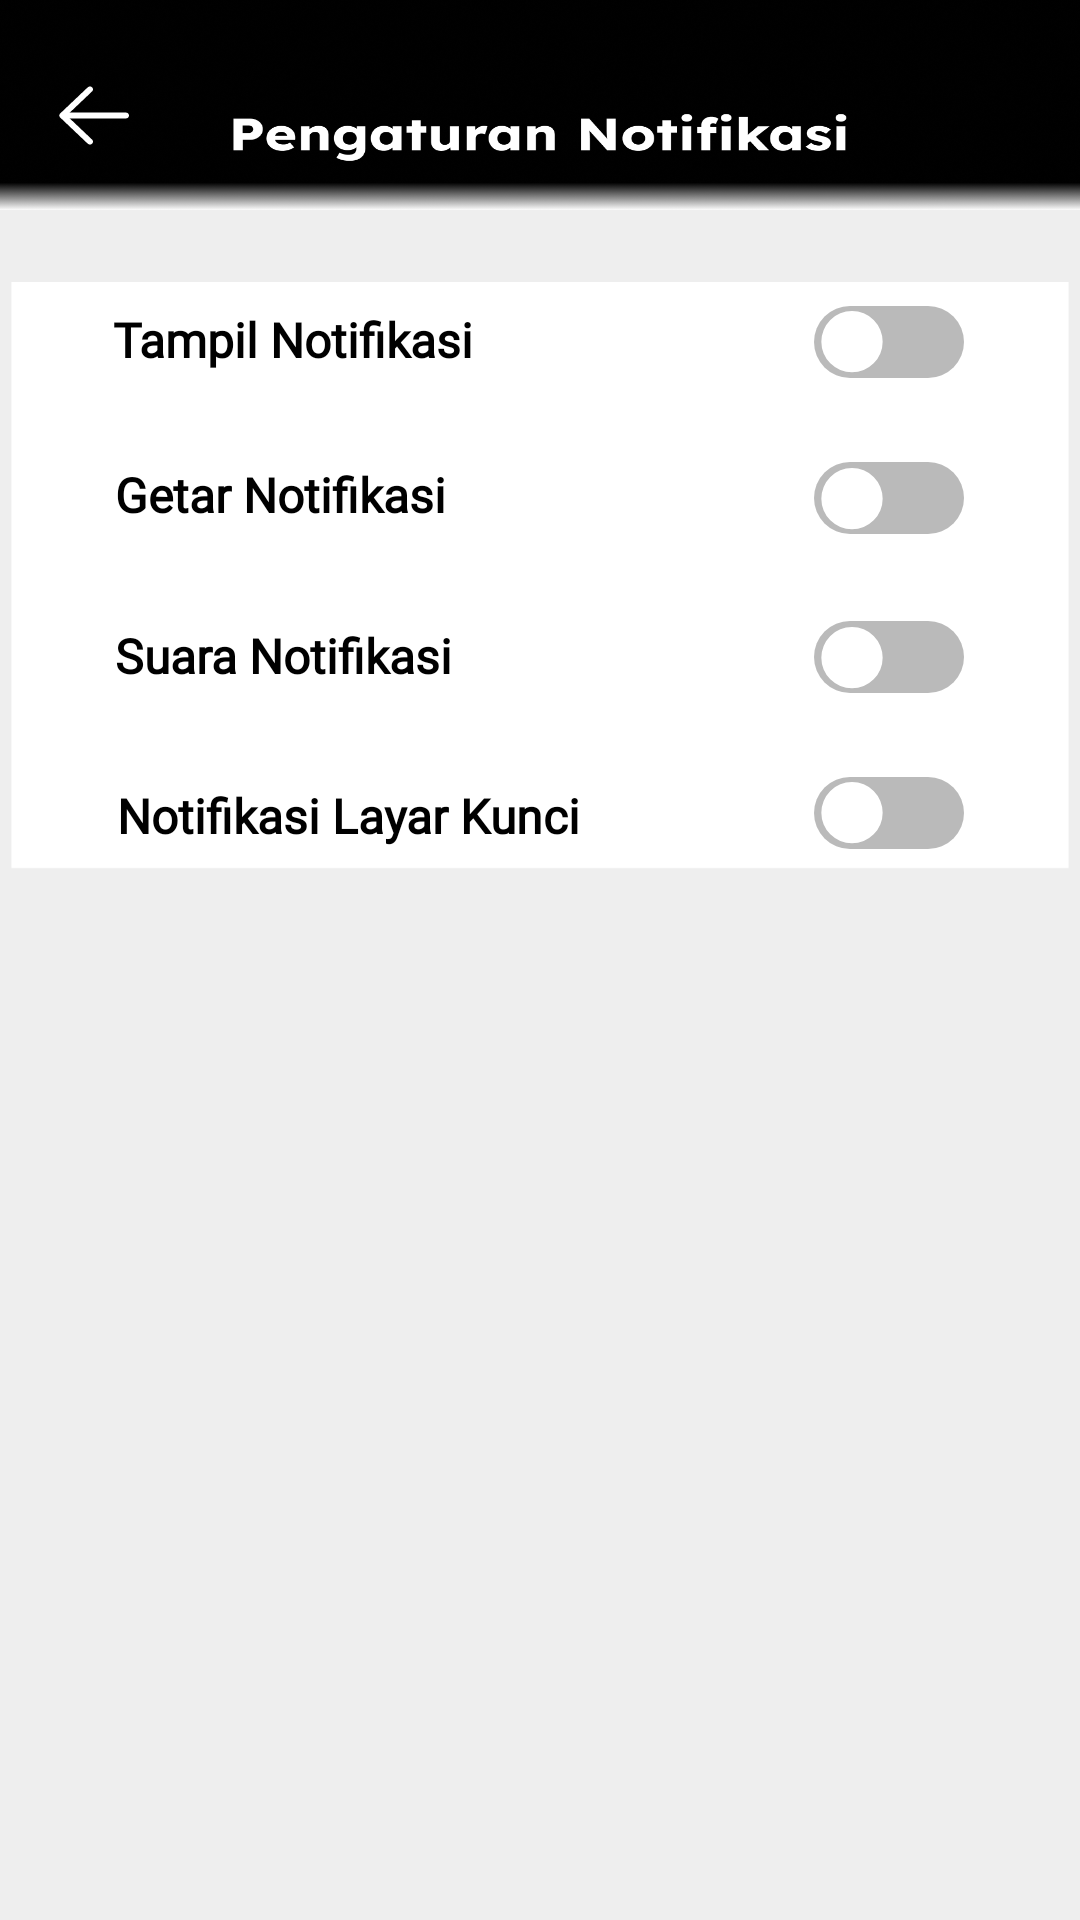

Named icons in this screenshot (1080×1920) and their centers, (x=x, y=y):
back: (x=94, y=115)
